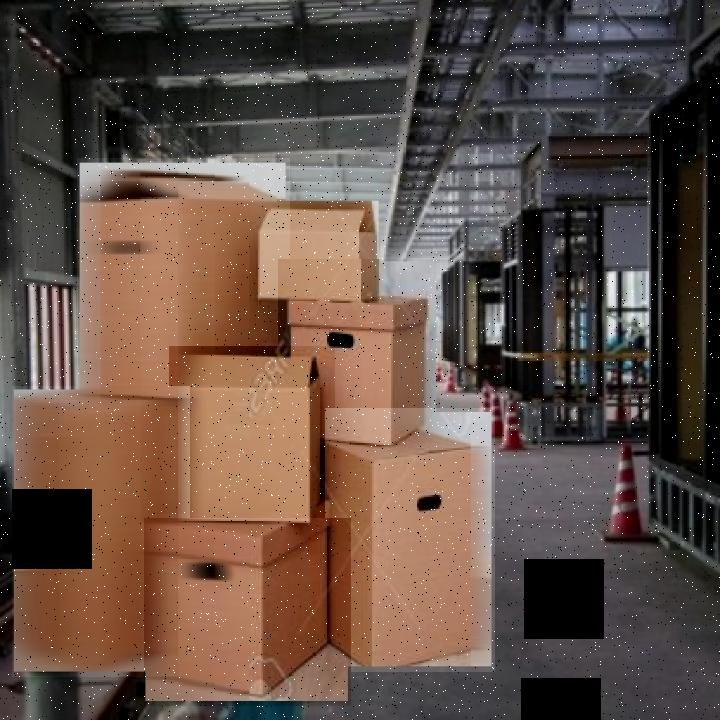box: (77, 158, 290, 439), (12, 386, 190, 677), (325, 408, 495, 672), (144, 518, 351, 706), (278, 259, 440, 454), (169, 346, 335, 533), (253, 200, 384, 312)
